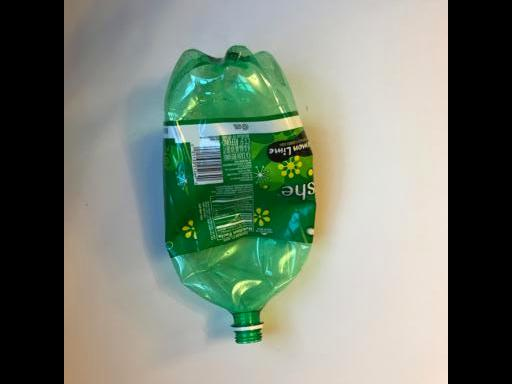PET: (161, 44, 316, 344)
plastic: (161, 44, 316, 344)
soft-drink: (161, 44, 316, 344)
